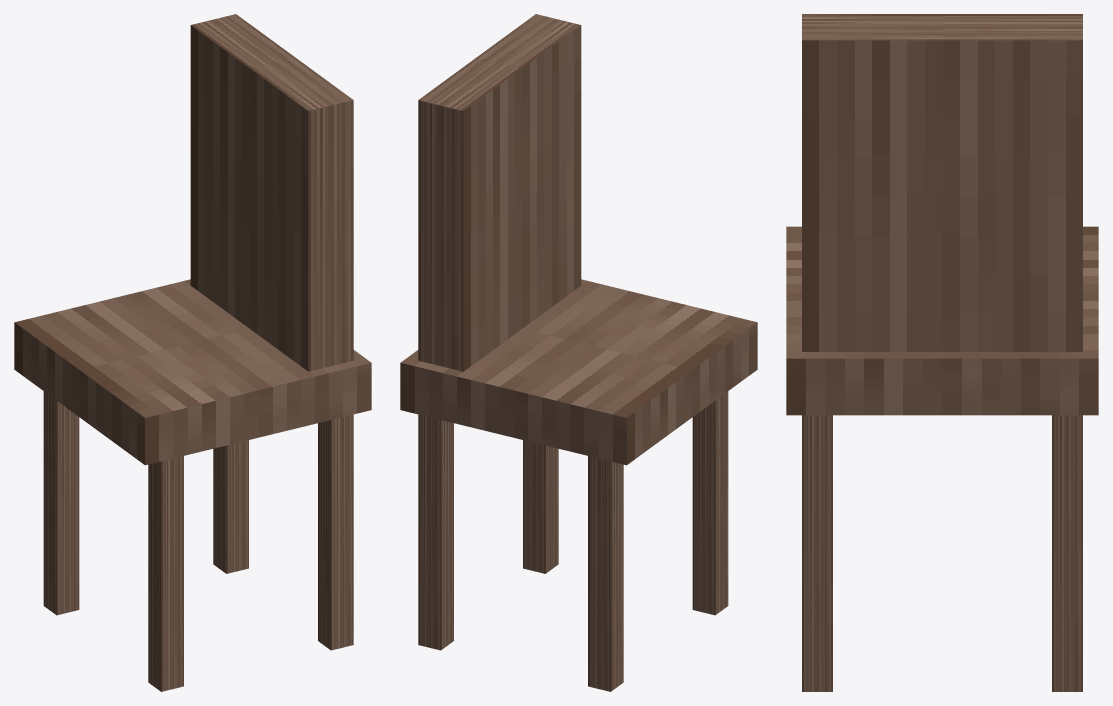
Rendered from Chair.gltf.
The picture shows the model from 3 angles, left to right: view 1: azimuth 30°, elevation 25°; view 2: azimuth 150°, elevation 25°; view 3: azimuth 270°, elevation 25°; orthographic projection. The views are drawn at different scales.
Visible parts, largest first — view 1: mesh (×6); view 2: mesh (×6); view 3: mesh (×4).
Part boxes in pixels (x1=…): mesh (×6): x1=14, y1=14, x2=371, y2=691; mesh (×6): x1=400, y1=14, x2=757, y2=691; mesh (×4): x1=786, y1=14, x2=1098, y2=691.
Bounding box in the file's own units: 1.25 × 2.88 × 1.25.
Materials: 1 (1 with a texture image).
